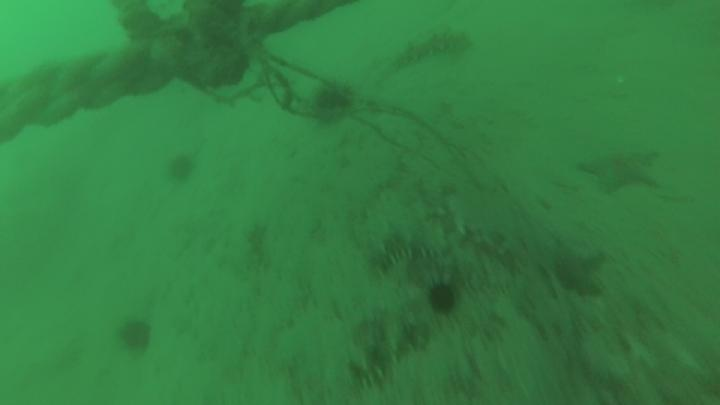echinus: (117, 315, 152, 355), (427, 279, 457, 324)
holothurian: (339, 312, 419, 393), (357, 232, 452, 273)
starfish: (577, 145, 667, 197), (546, 236, 611, 302)
